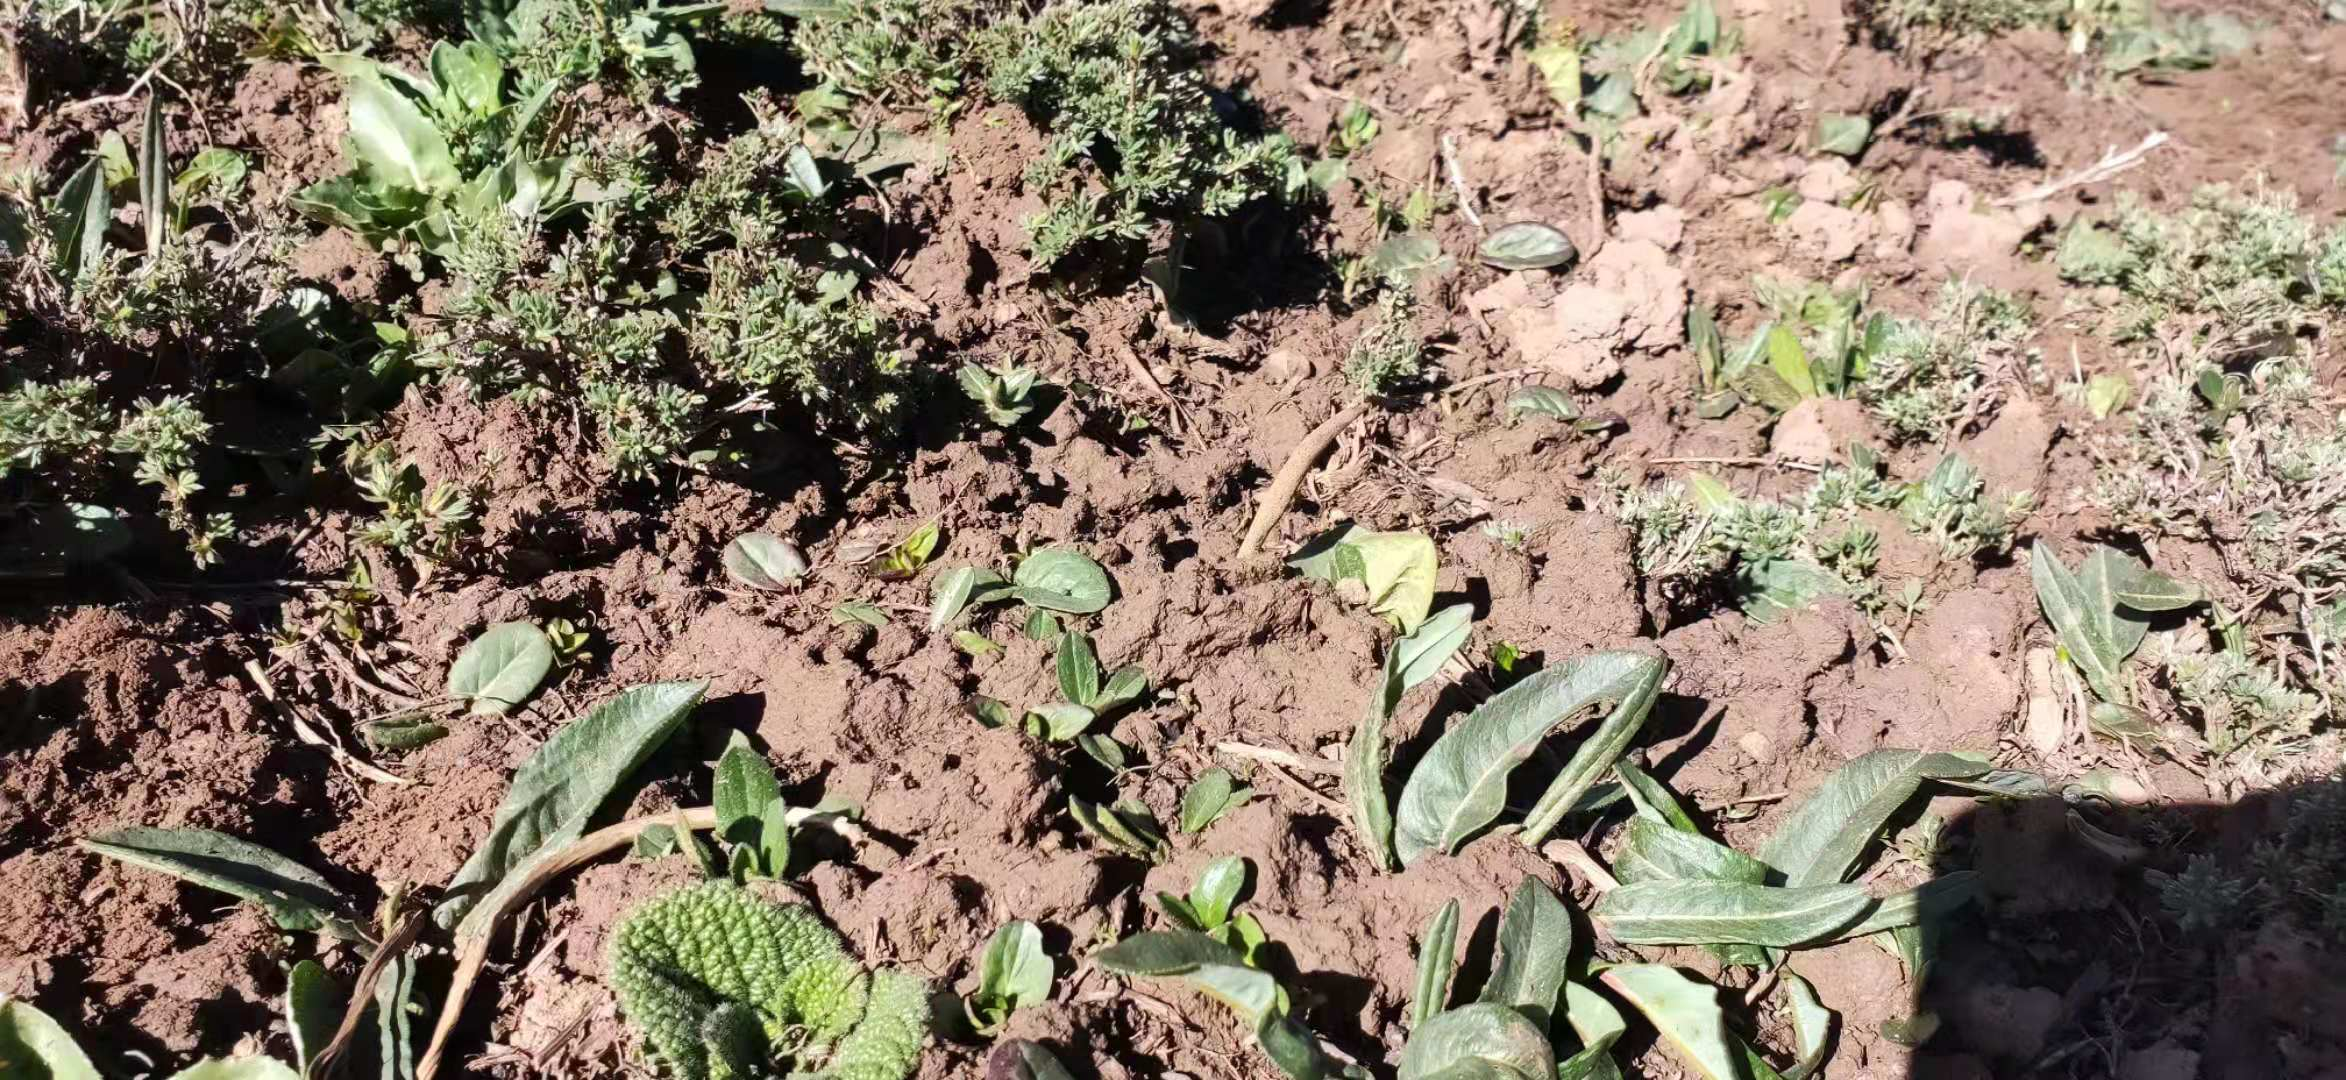cpf: (1234, 395, 1388, 558)
